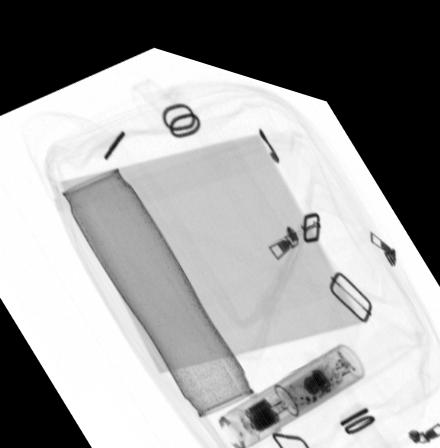Baton: (216, 319, 366, 438)
